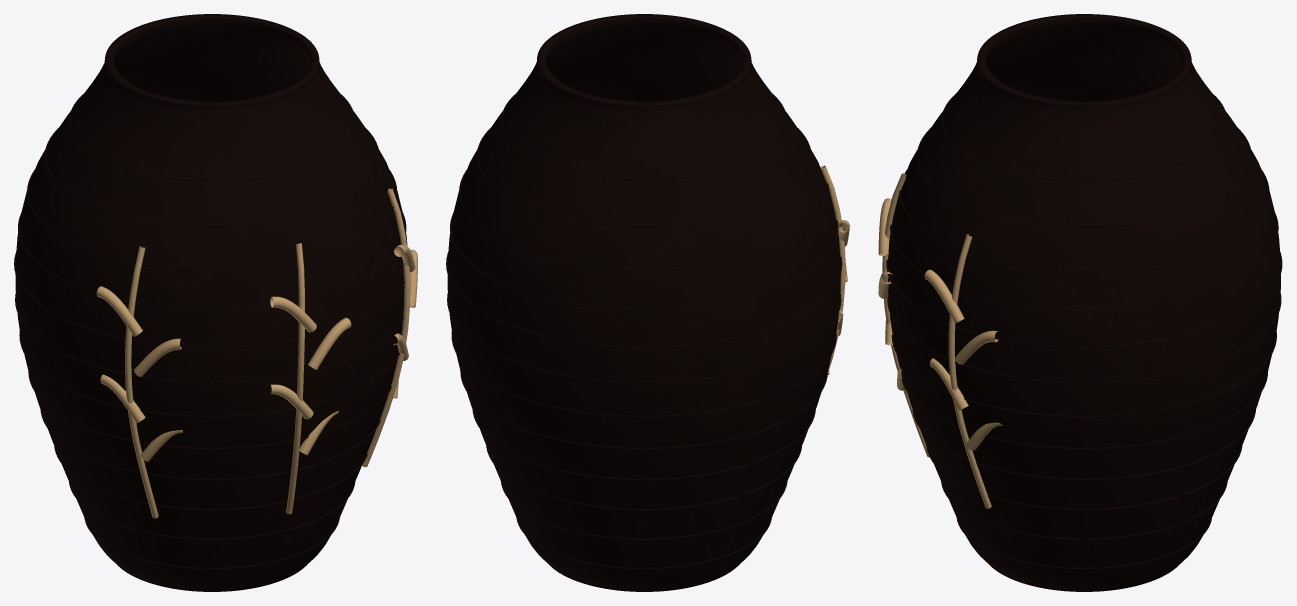
The model's file is bcm-1110.glb.
3 renders of one model, left to right at view 1: azimuth 30°, elevation 25°; view 2: azimuth 150°, elevation 25°; view 3: azimuth 270°, elevation 25°, orthographic.
Parts seen in each view (by area): view 1: Continuous hollow vessel with formed lip, Botanical stem - simplified; view 2: Continuous hollow vessel with formed lip, Botanical stem - simplified; view 3: Continuous hollow vessel with formed lip, Botanical stem - simplified.
Boxes of the visible parts, x1,y1,x2,y2 form: Continuous hollow vessel with formed lip: [14, 14, 407, 591]; Botanical stem - simplified: [96, 188, 417, 518]; Continuous hollow vessel with formed lip: [446, 14, 842, 591]; Botanical stem - simplified: [820, 165, 849, 374]; Continuous hollow vessel with formed lip: [886, 14, 1282, 591]; Botanical stem - simplified: [878, 173, 1002, 508].
Bounding box in the file's own units: 0.8511 × 1.16 × 0.8678.
